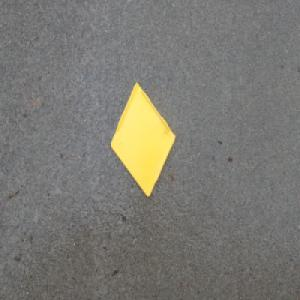PlasticPart: (109, 81, 176, 200)
